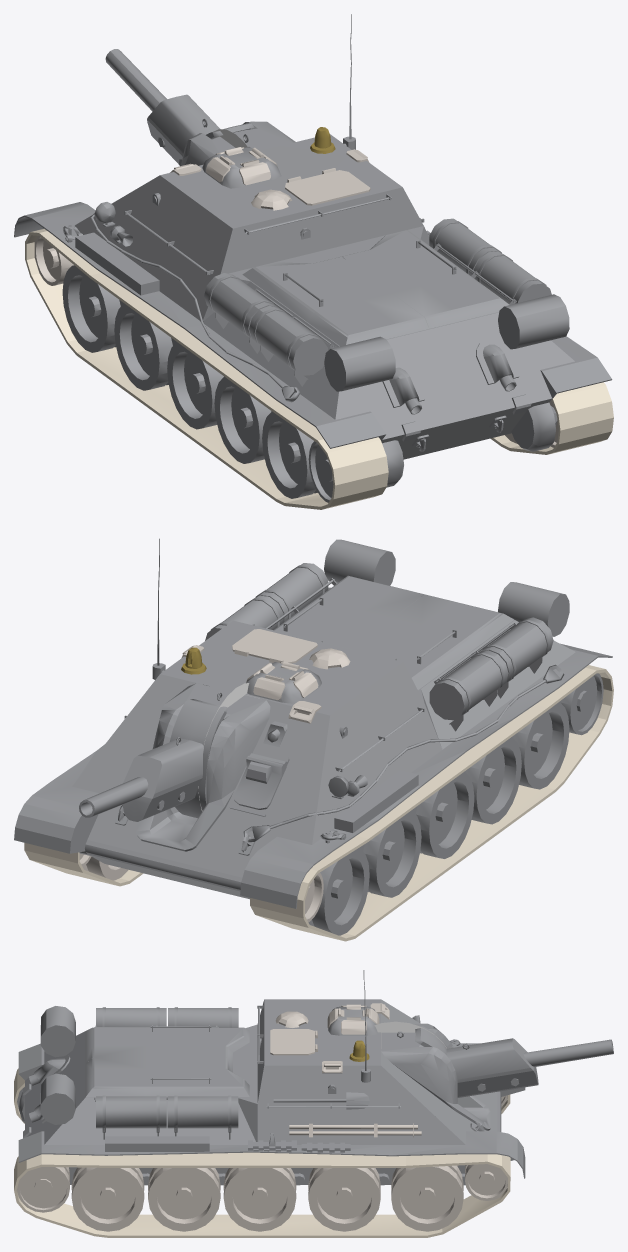
The picture shows the model from 3 angles, top to bottom: view 1: azimuth 30°, elevation 25°; view 2: azimuth 150°, elevation 25°; view 3: azimuth 270°, elevation 25°; orthographic projection. The views are drawn at different scales.
Parts seen in each view (by area): view 1: 3DSMeshMatrix (×24); view 2: 3DSMeshMatrix (×30); view 3: 3DSMeshMatrix (×31).
Boxes of the visible parts, bbox=[...] form: 3DSMeshMatrix (×24): bbox=[14, 49, 613, 509]; 3DSMeshMatrix (×30): bbox=[14, 539, 613, 941]; 3DSMeshMatrix (×31): bbox=[14, 999, 613, 1237].
Size of the model in its own units: 821 by 871 by 1890.
